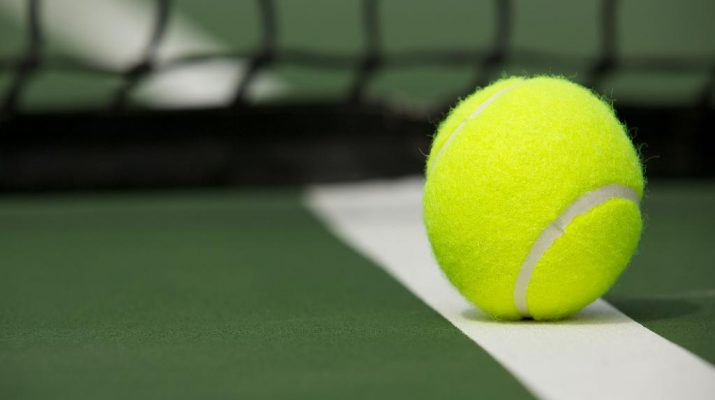tennis_ball: (413, 74, 648, 326)
